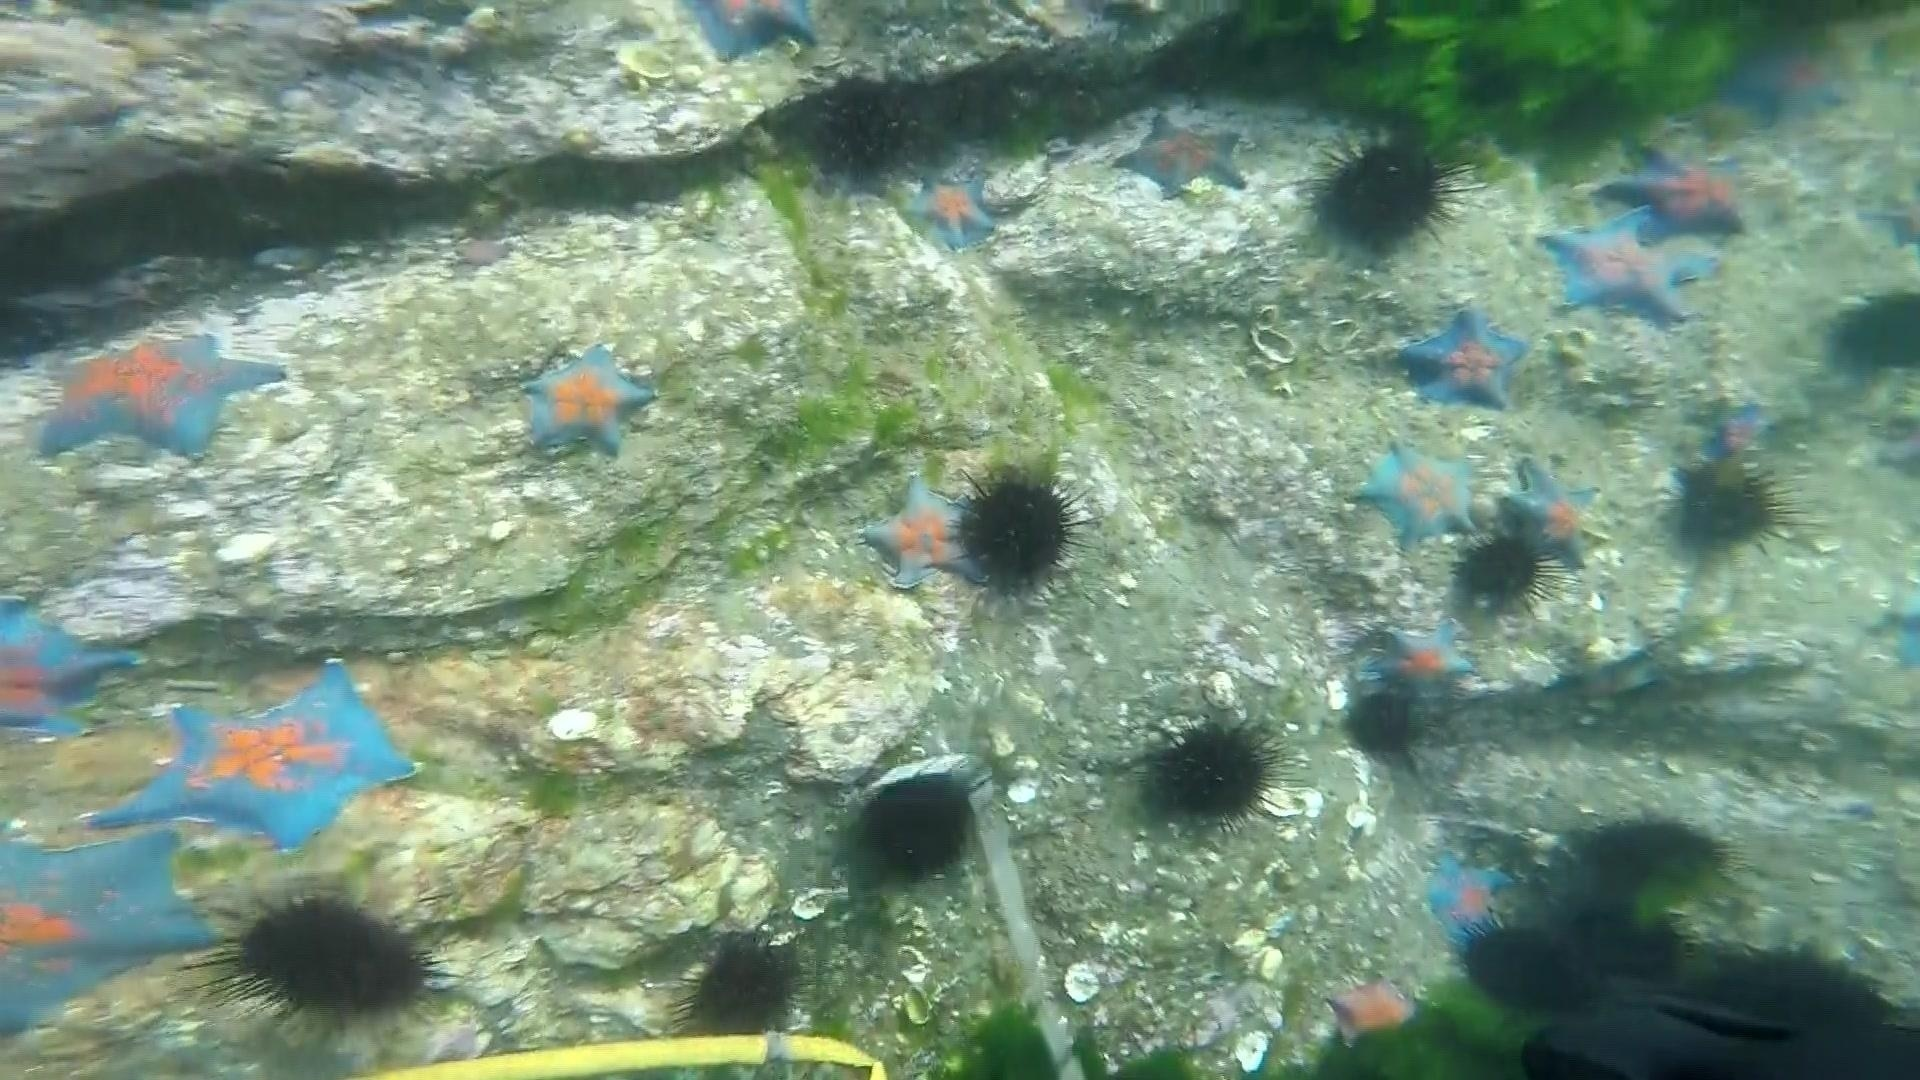echinus: (208, 884, 455, 1036), (1302, 125, 1468, 260), (1135, 712, 1290, 833), (953, 464, 1089, 597), (845, 764, 986, 890), (1572, 810, 1735, 916), (1663, 448, 1803, 566), (671, 930, 810, 1042), (1458, 916, 1593, 1021), (804, 70, 924, 185), (1553, 899, 1687, 977), (1822, 281, 1919, 386), (1451, 527, 1560, 618), (1341, 684, 1425, 764)
starfish: (90, 661, 419, 855), (1, 822, 218, 1042), (26, 323, 291, 465), (1539, 208, 1717, 330), (1, 592, 144, 742), (516, 338, 659, 464), (855, 469, 986, 597), (1600, 142, 1758, 248), (1393, 301, 1534, 417), (1352, 436, 1484, 551), (1498, 454, 1615, 574), (1716, 36, 1862, 131), (1110, 111, 1253, 203), (1415, 844, 1523, 951), (1317, 969, 1433, 1064), (1365, 615, 1480, 709), (675, 1, 825, 67), (899, 166, 1007, 256), (1691, 393, 1784, 468), (1867, 595, 1920, 678), (1865, 200, 1920, 256)
